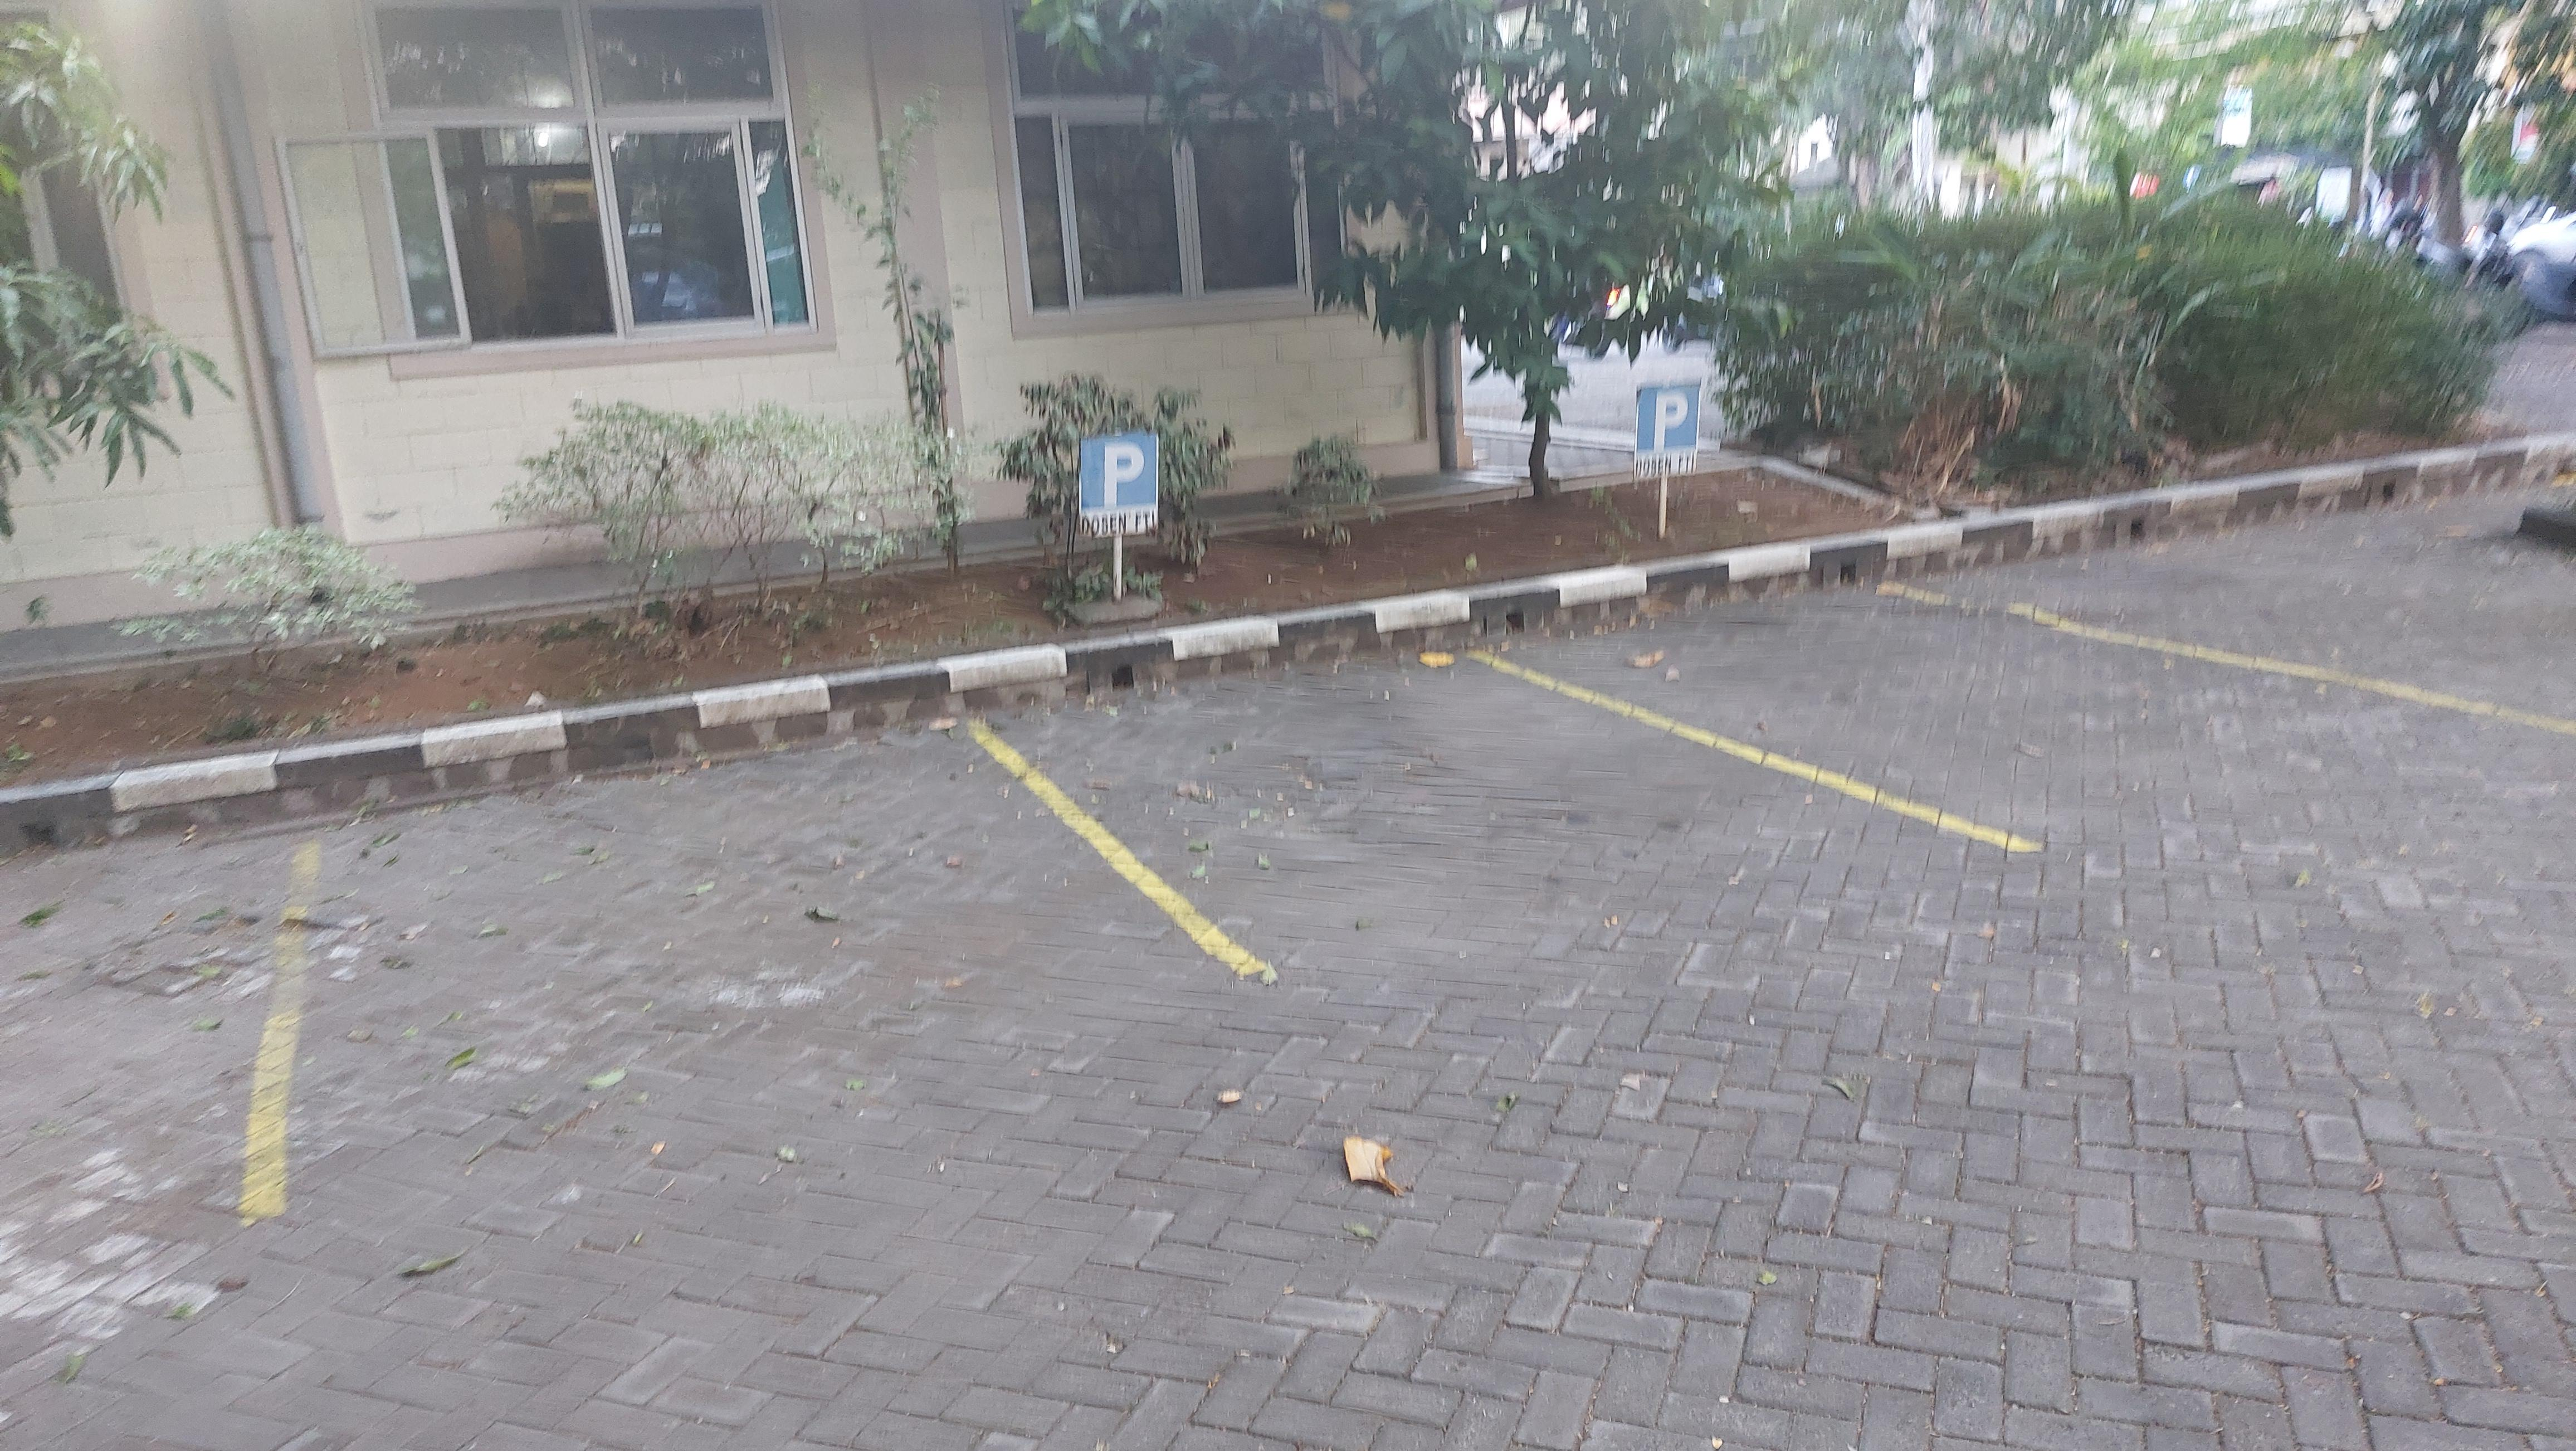empty: (237, 721, 1282, 1211), (973, 647, 2044, 981), (1482, 584, 2576, 849), (1892, 506, 2576, 732)
